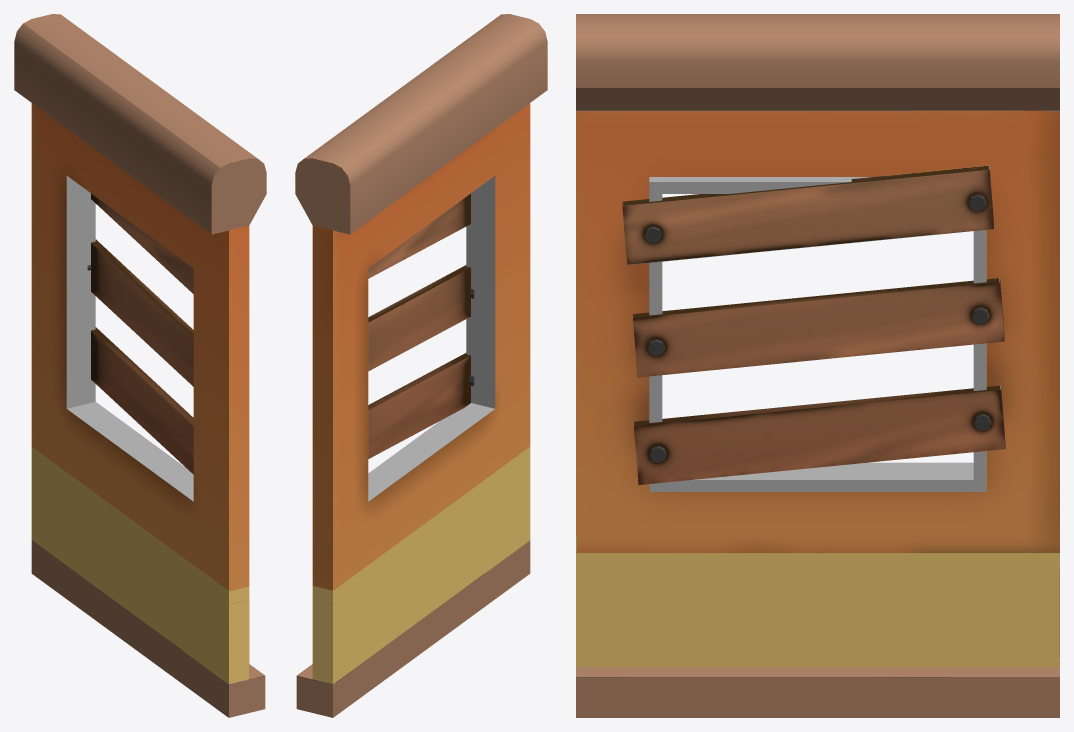
Rendered from Wall_Window_2.fbx.
3 renders of one model, left to right at view 1: azimuth 30°, elevation 25°; view 2: azimuth 150°, elevation 25°; view 3: azimuth 270°, elevation 25°, orthographic. The views are drawn at different scales.
Parts seen in each view (by area): view 1: Wall_Window_2; view 2: Wall_Window_2; view 3: Wall_Window_2.
Part boxes in pixels (x1,y1,x2,y2): Wall_Window_2: [14, 14, 266, 717]; Wall_Window_2: [295, 14, 547, 717]; Wall_Window_2: [576, 14, 1059, 717].
Size of the model in its own units: 32 by 310 by 200.
